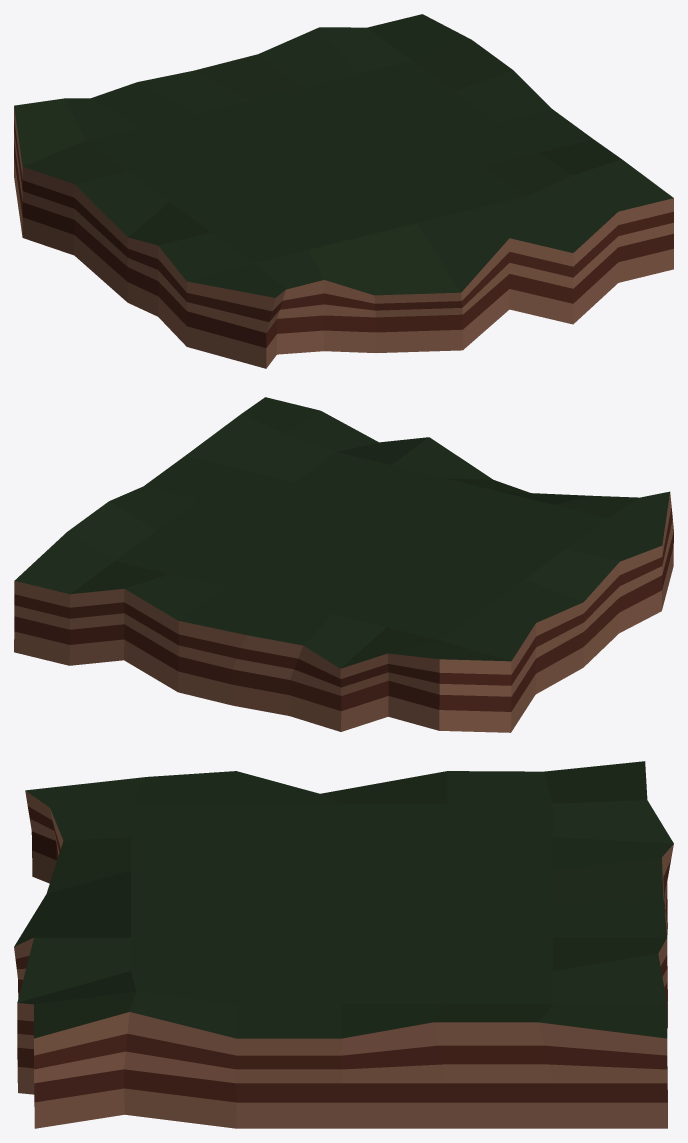
Rendered from chao6.fbx.
3 views of the same model, one above another, from view 1: azimuth 30°, elevation 25°; view 2: azimuth 150°, elevation 25°; view 3: azimuth 270°, elevation 25° (orthographic). The views are drawn at different scales.
Parts seen in each view (by area): view 1: Cube.001; view 2: Cube.001; view 3: Cube.001.
Part boxes in pixels (x1,y1,x2,y2): Cube.001: (14,14,673,368); Cube.001: (14,397,673,732); Cube.001: (14,761,673,1128).
Bounding box in the file's own units: 1213 × 290 × 1226.
